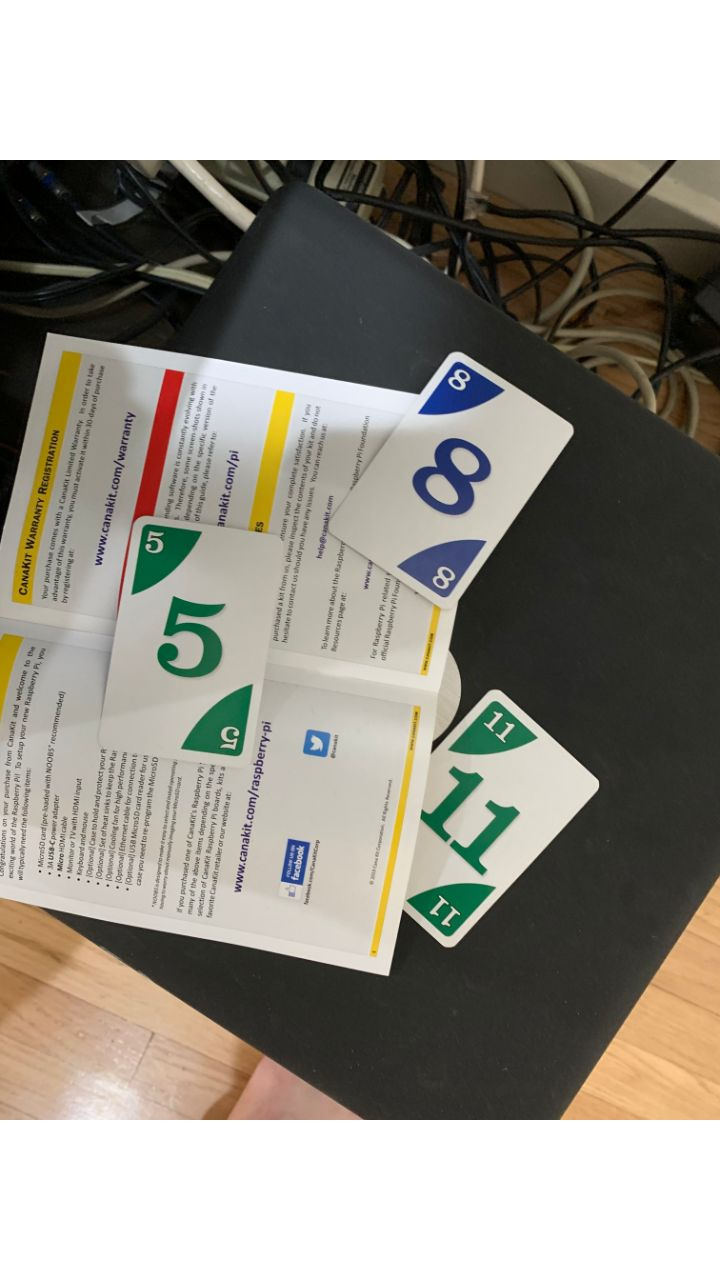eight: (325, 350, 575, 611)
eleven: (366, 689, 600, 949)
five: (97, 513, 285, 766)
